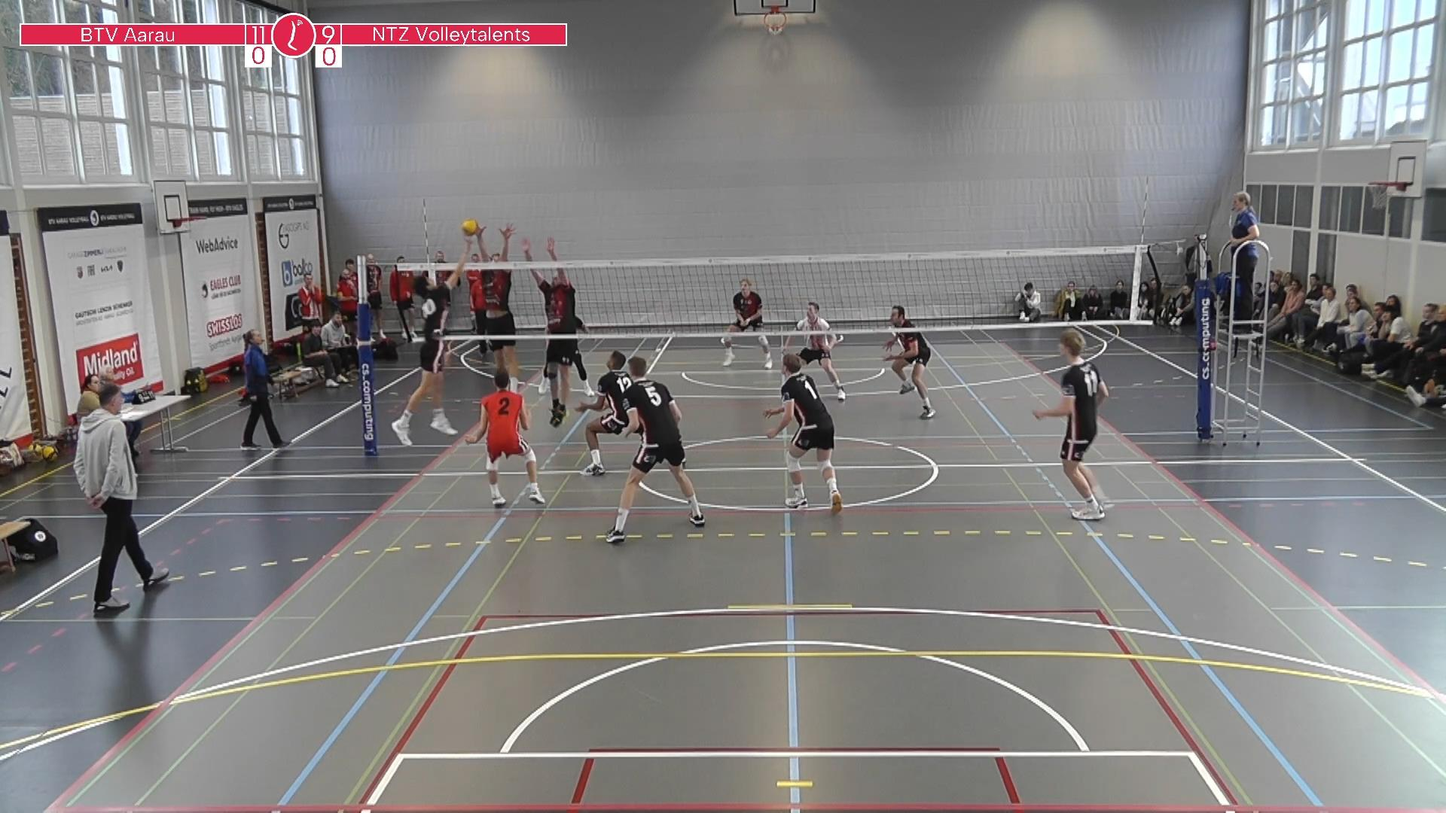attacco: (384, 239, 482, 446)
muro: (522, 230, 584, 432), (462, 220, 515, 416)
